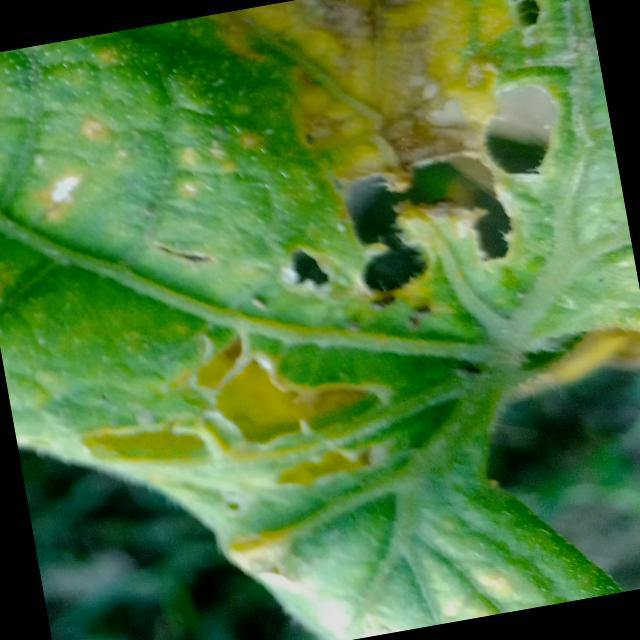cucumber_anthracnose: (0, 0, 638, 541)
